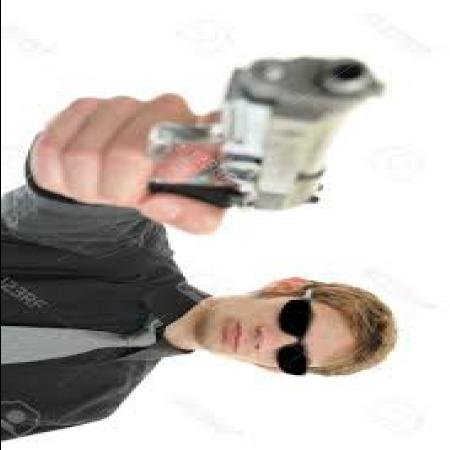Pistol: (120, 49, 396, 213)
